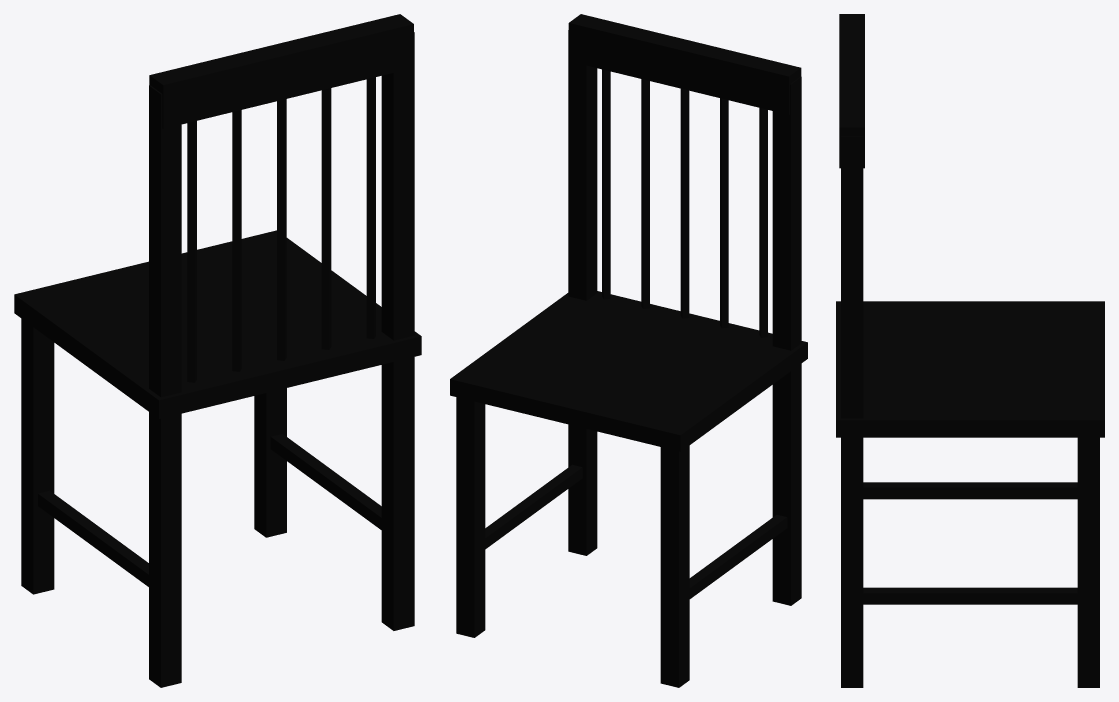
Rendered from SM_chair_spindle_oak.fbx.
3 views of the same model, side by side, from view 1: azimuth 30°, elevation 25°; view 2: azimuth 150°, elevation 25°; view 3: azimuth 270°, elevation 25° (orthographic). The views are drawn at different scales.
Visible parts, largest first — view 1: chair_spindle_oak; view 2: chair_spindle_oak; view 3: chair_spindle_oak.
Boxes of the visible parts, bbox=[...] form: chair_spindle_oak: bbox=[14, 14, 421, 687]; chair_spindle_oak: bbox=[450, 14, 807, 687]; chair_spindle_oak: bbox=[836, 14, 1104, 687].
Bounding box in the file's own units: 0.44 × 0.965 × 0.42.
